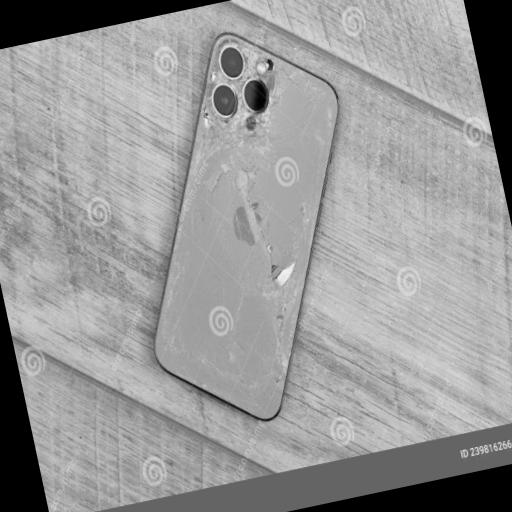phone: (153, 28, 338, 425)
